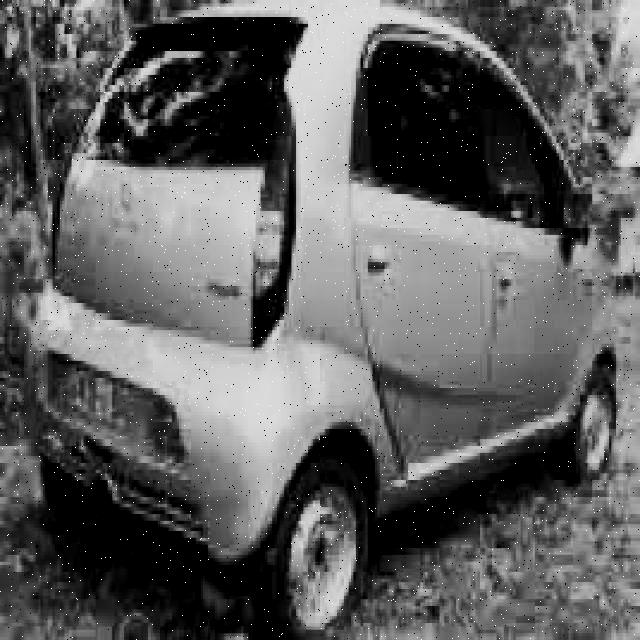Car: (32, 0, 618, 613)
